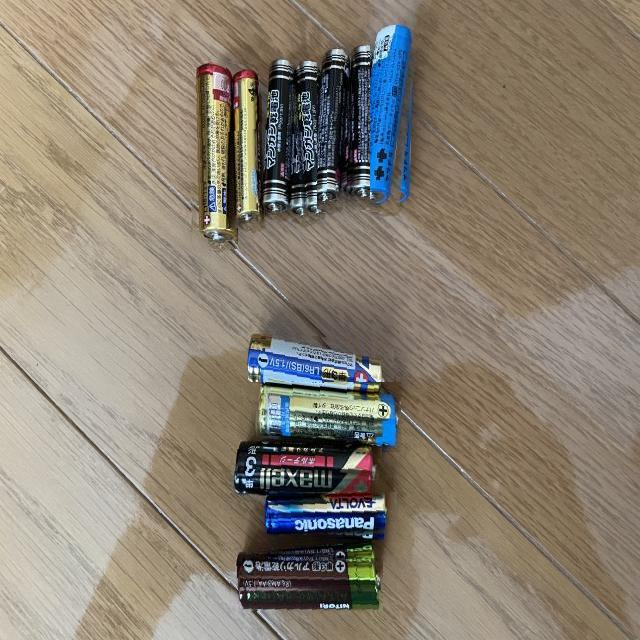battery: (242, 330, 394, 407), (251, 382, 401, 457), (184, 58, 238, 249), (228, 546, 384, 611), (232, 437, 384, 503), (370, 18, 420, 212), (259, 492, 397, 544), (226, 64, 269, 229), (258, 56, 296, 222), (288, 60, 326, 222), (344, 38, 378, 210), (317, 48, 352, 210)
